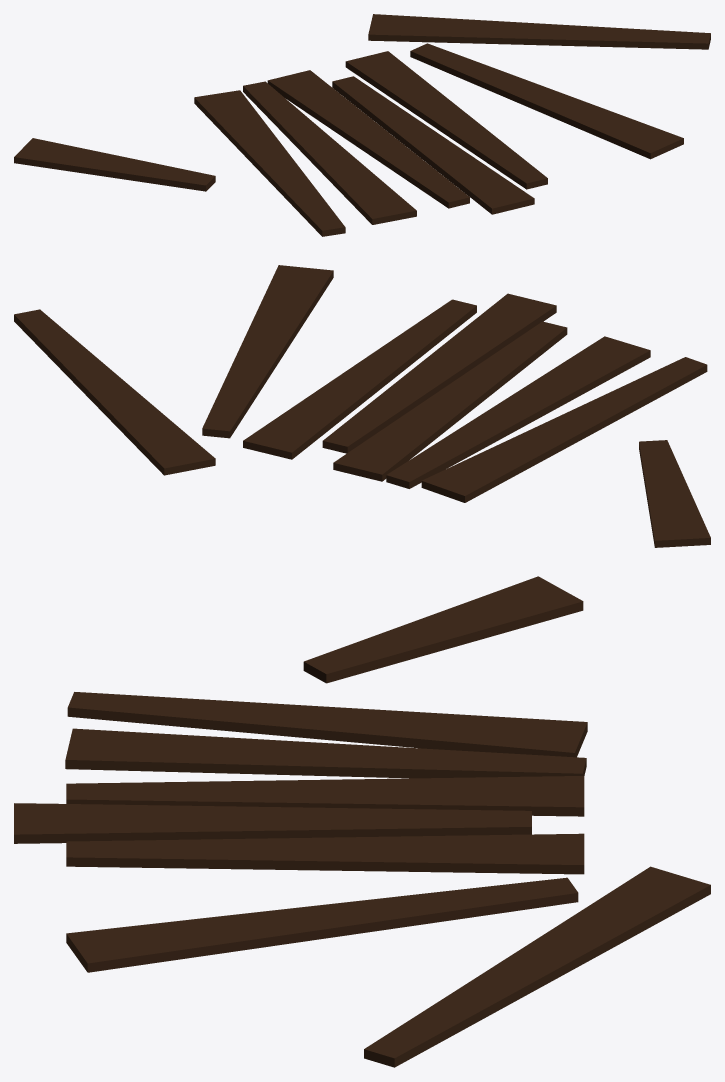
File: Madeiras.fbx
The picture shows the model from 3 angles, top to bottom: view 1: azimuth 30°, elevation 25°; view 2: azimuth 150°, elevation 25°; view 3: azimuth 270°, elevation 25°; orthographic projection. The views are drawn at different scales.
Visible parts, largest first — view 1: Madeiras; view 2: Madeiras; view 3: Madeiras.
Part boxes in pixels (x1,y1,x2,y2): Madeiras: (14,14,710,236); Madeiras: (14,265,710,547); Madeiras: (14,576,710,1067).
Size of the model in its own units: 545 by 4.9 by 333.
